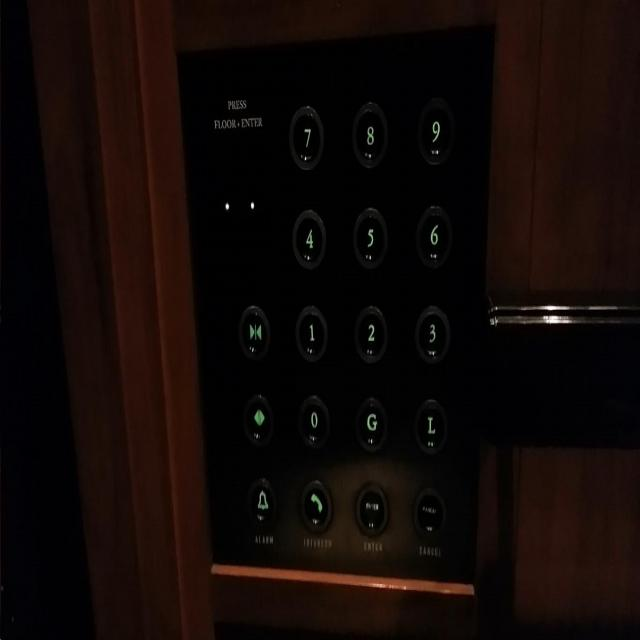0: (297, 389, 331, 451)
1: (294, 303, 328, 362)
2: (353, 303, 389, 365)
3: (414, 304, 451, 365)
4: (290, 205, 328, 271)
5: (351, 202, 389, 274)
6: (412, 202, 452, 273)
7: (287, 104, 326, 174)
8: (352, 103, 389, 170)
9: (416, 101, 452, 168)
G: (352, 390, 388, 454)
L: (414, 394, 448, 455)
alarm: (244, 472, 280, 530)
call: (298, 474, 332, 531)
close: (236, 302, 270, 362)
open: (241, 388, 275, 446)
text: (411, 481, 447, 542), (353, 476, 388, 538)
